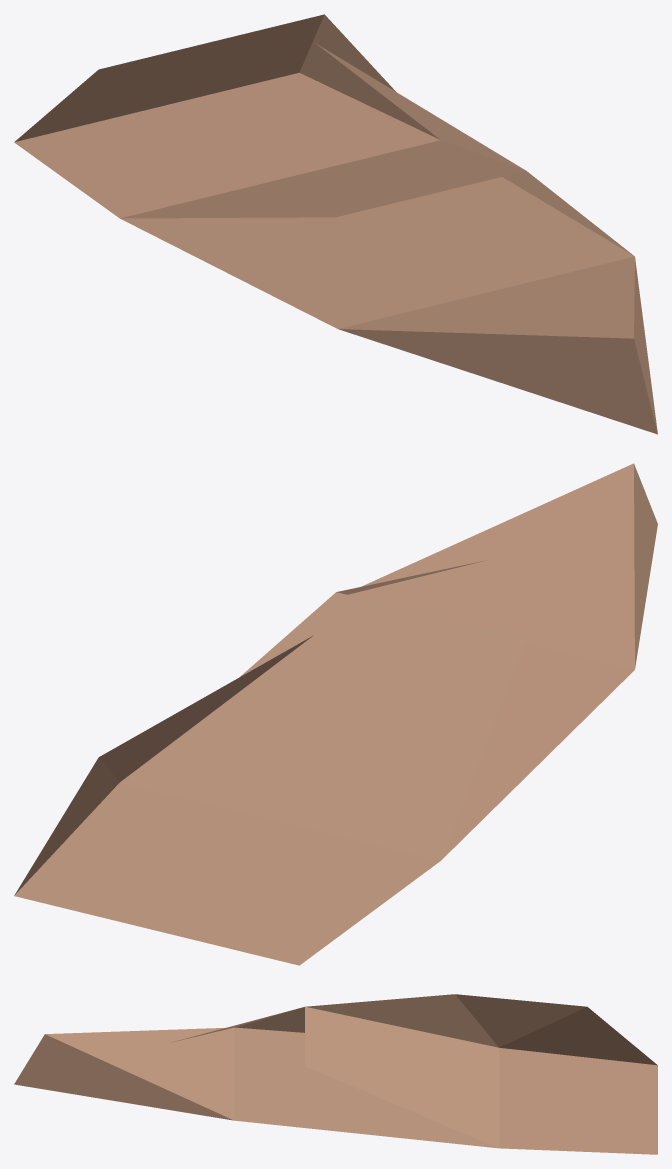
File: brigantine.gltf
3 renders of one model, top to bottom at view 1: azimuth 30°, elevation 25°; view 2: azimuth 150°, elevation 25°; view 3: azimuth 270°, elevation 25°, orthographic. The views are drawn at different scales.
Visible parts, largest first — view 1: brigantine; view 2: brigantine; view 3: brigantine.
Boxes of the visible parts, box(x1,y1,x2,y2) form: brigantine: box(14, 14, 657, 434); brigantine: box(14, 463, 657, 965); brigantine: box(14, 994, 657, 1154).
Bounding box in the file's own units: 2.7 × 1.45 × 7.3.
